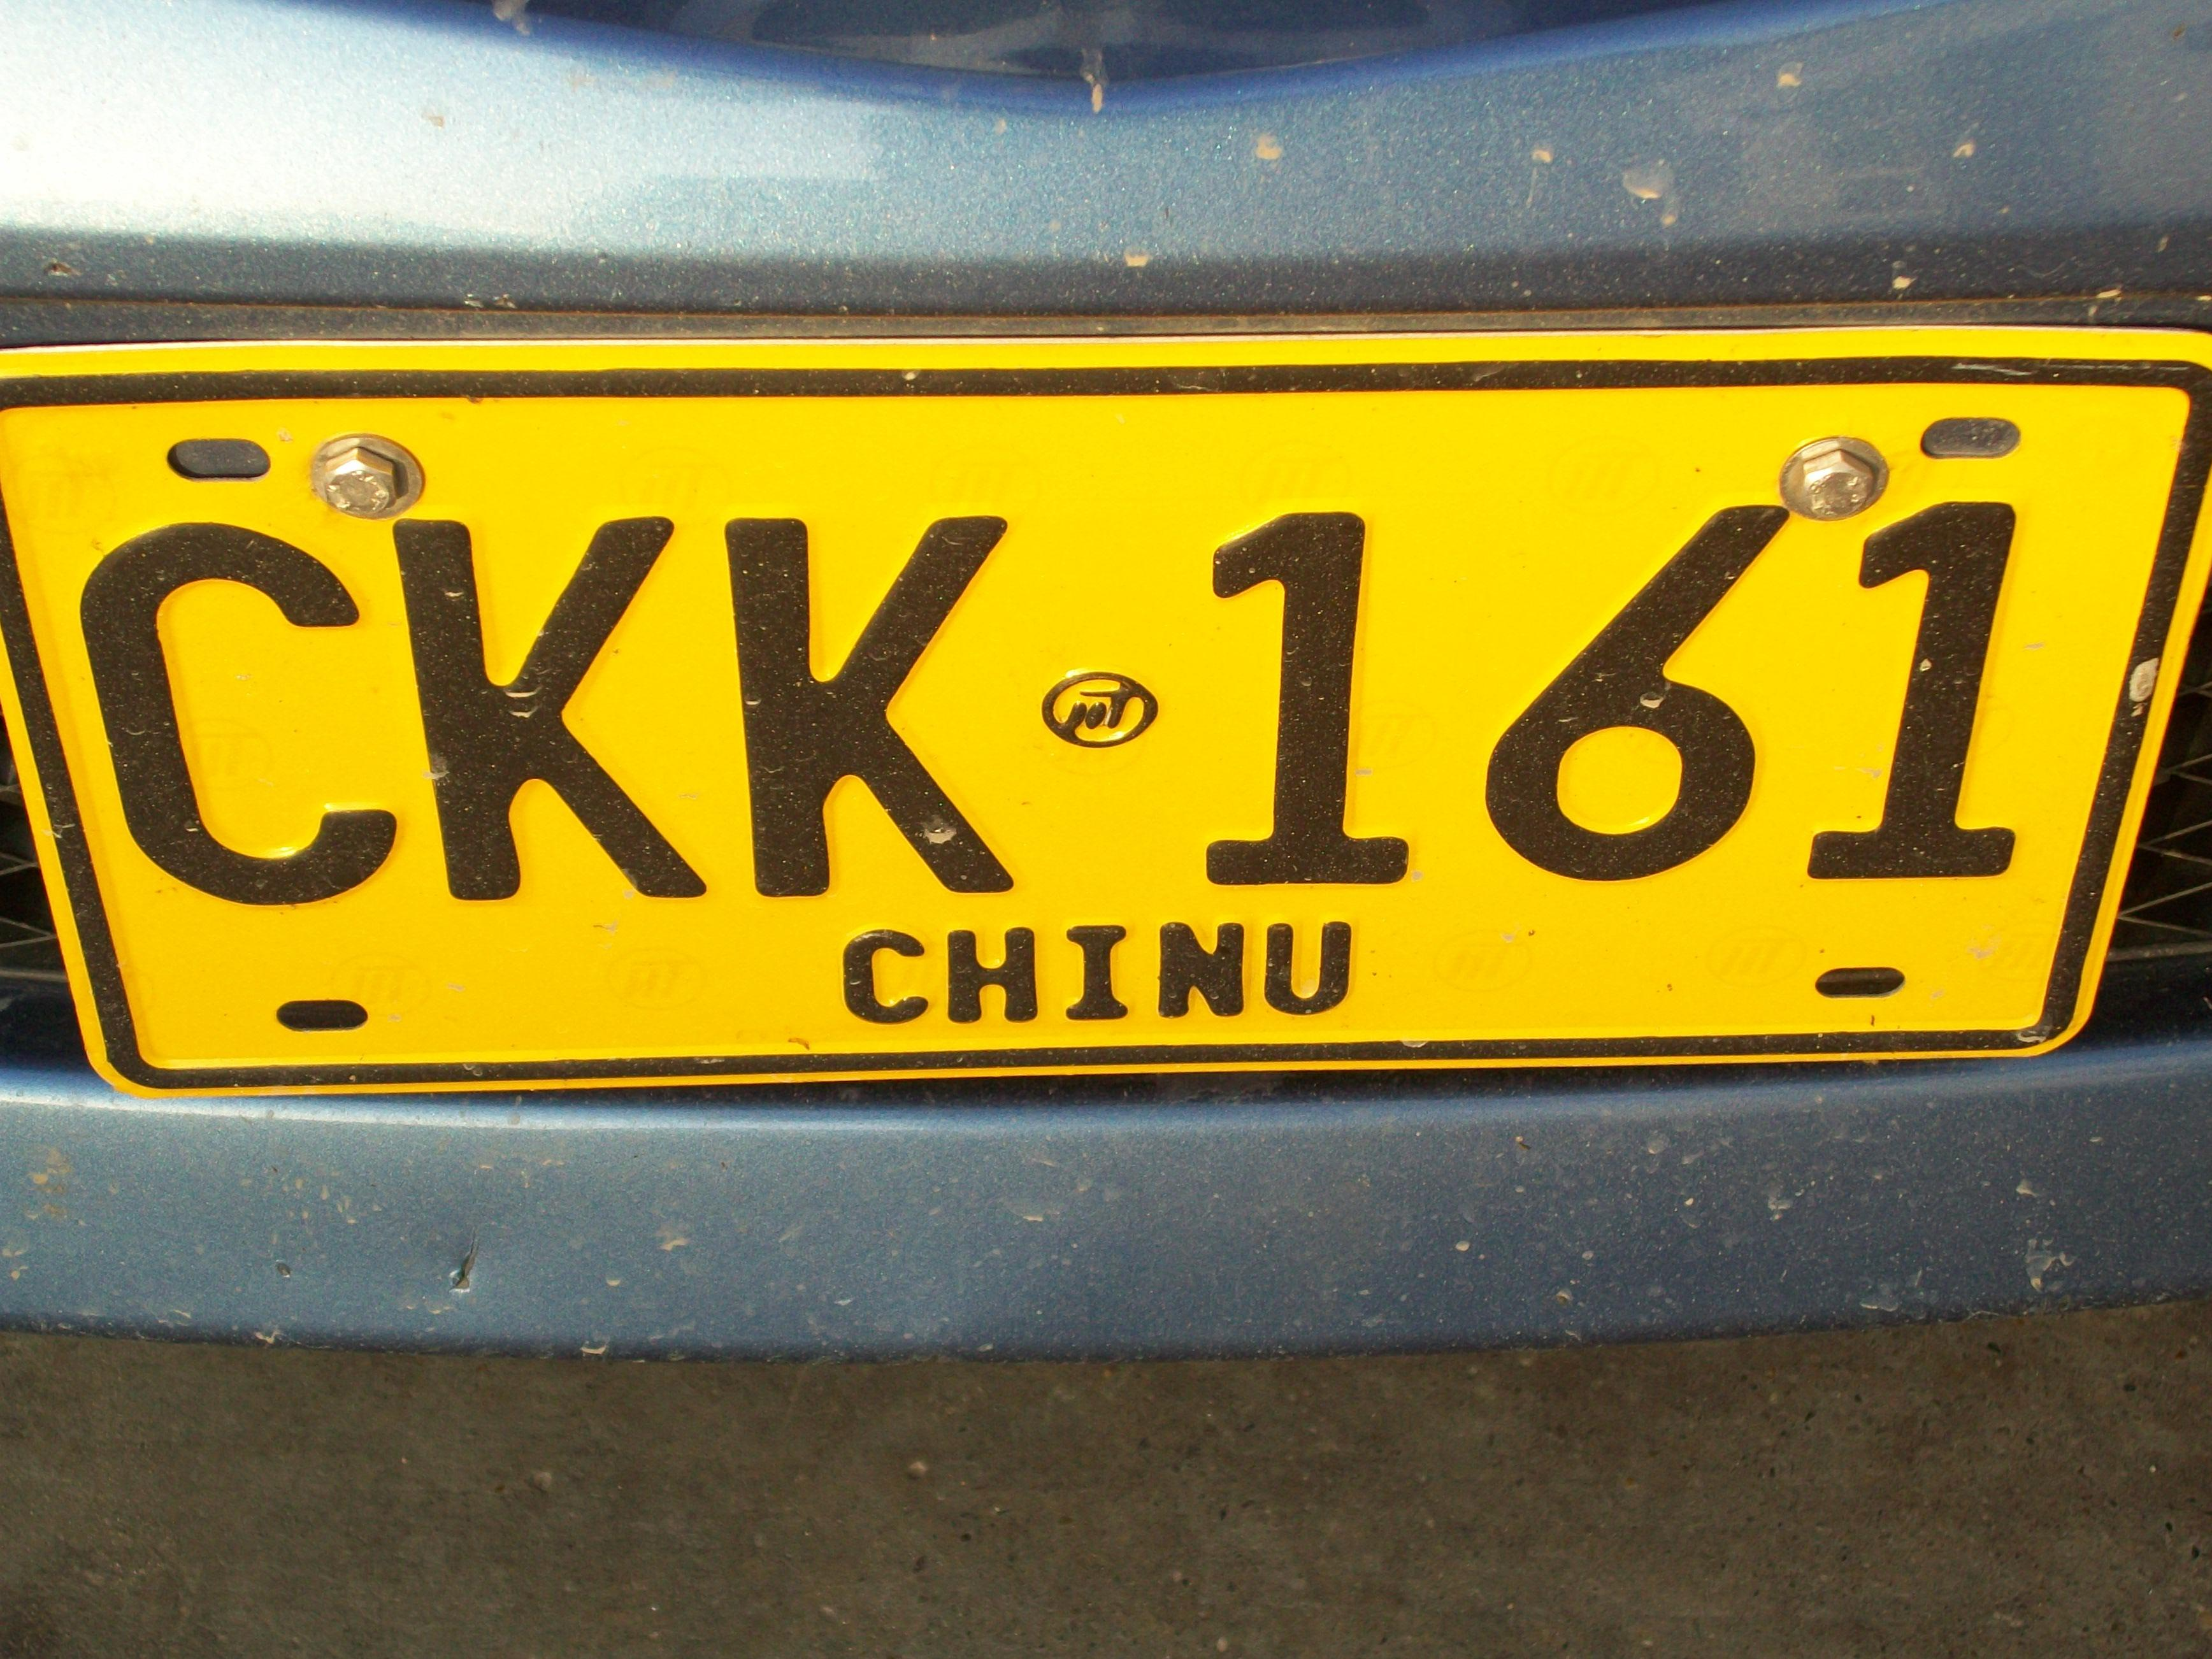placas: (3, 317, 2204, 1106)
